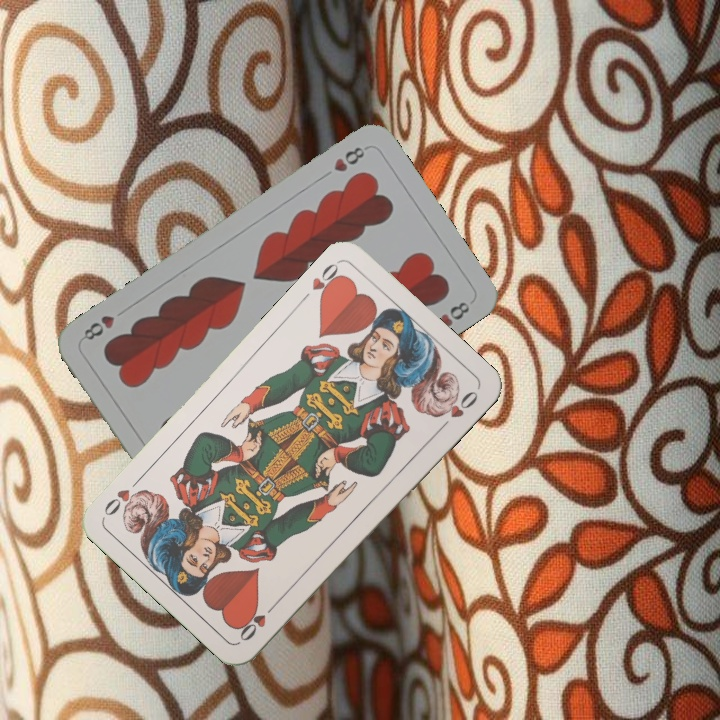H8: (329, 142, 371, 175)
HO: (235, 597, 281, 644), (308, 257, 347, 304)
